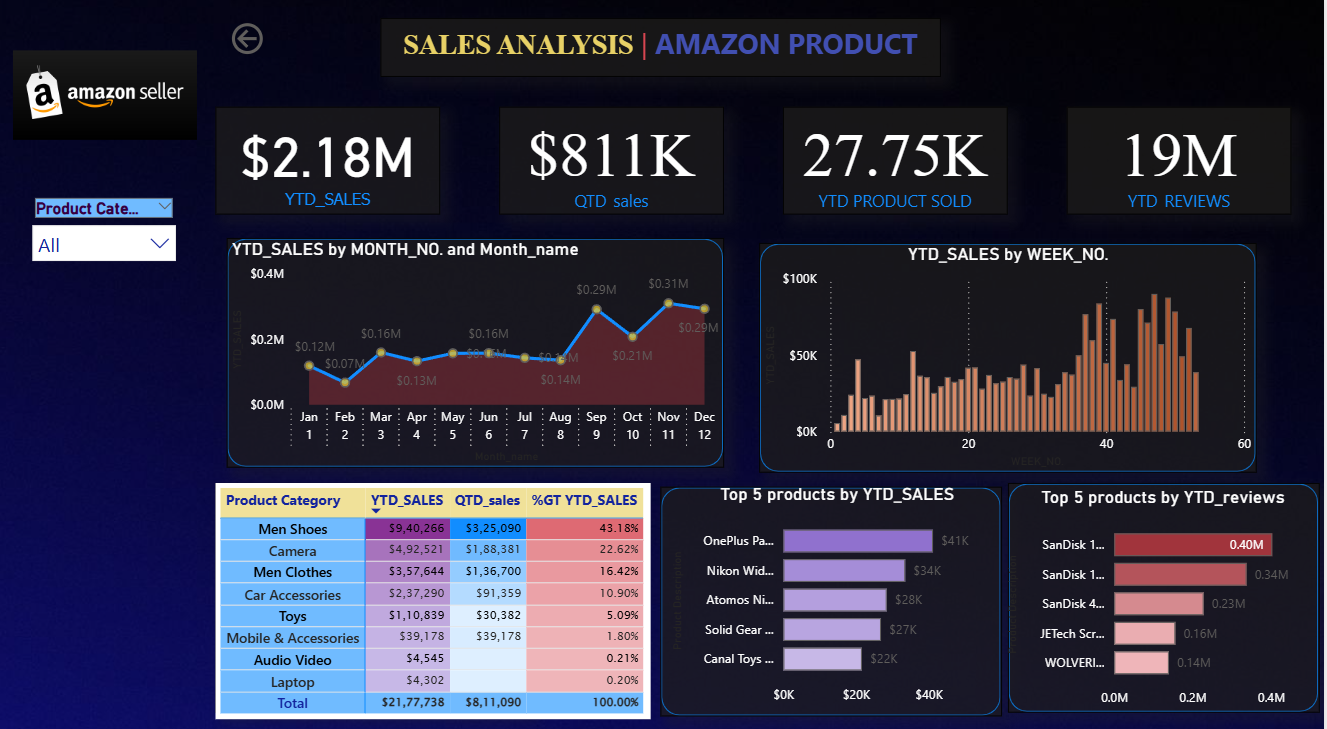

The page's visual inventory and layout, read from the dashboard file:
{"tool":"powerbi","page":{"name":"Page 1","canvas":[1280,720],"ordinal":0},"visuals":[{"type":"textbox","box":[369.8,24.1,540.5,56.7],"z":0},{"type":"card","fields":{"Values":["Amazon_Data (2).QTD_sales"]},"box":[483.8,109.8,217.2,103.8],"z":2000},{"type":"card","fields":{"Values":["Amazon_Data (2).YTD_SALES"]},"box":[209.9,109.8,217.2,103.8],"z":3000},{"type":"card","fields":{"Values":["Amazon_Data (2).YTD PRODUCT SOLD"]},"box":[757.6,109.8,217.2,103.8],"z":4000},{"type":"card","fields":{"Values":["Amazon_Data (2).YTD_REVIEWS"]},"box":[1031.5,109.8,217.2,103.8],"z":5000},{"type":"shape","box":[220.8,236.5,480.2,222],"z":6000},{"type":"areaChart","fields":{"Category":["Date_Table.MONTH_NO.","Date_Table.Month_name"],"Y":["Amazon_Data (2).YTD_SALES"]},"box":[220.8,236.5,480.2,222],"z":7000},{"type":"shape","box":[734.7,241.3,480.2,222],"z":7001},{"type":"lineStackedColumnComboChart","fields":{"Category":["Date_Table.WEEK_NO."],"Y":["Amazon_Data (2).YTD_SALES"]},"box":[734.7,241.3,480.2,222],"z":7002},{"type":"shape","box":[209.9,472.9,302.8,222],"z":7003},{"type":"shape","box":[639.4,476.5,329.4,222],"z":7004},{"type":"shape","box":[974.8,472.9,300.4,222],"z":7005},{"type":"pivotTable","fields":{"Rows":["Amazon_Data (2).Product Category"],"Values":["Amazon_Data (2).YTD_SALES1","Amazon_Data (2).QTD_sales","Amazon_Data (2).YTD_SALES"]},"box":[209.9,472.9,419.8,228],"z":7006},{"type":"actionButton","box":[220.9,24.7,100.2,39.8],"z":7007},{"type":"barChart","title":"Top 5 products by YTD_SALES","fields":{"Category":["Amazon_Data (2).Product Description"],"Y":["Amazon_Data (2).YTD_SALES"]},"box":[644.9,473.4,329.3,222.3],"z":7008},{"type":"barChart","title":"Top 5 products by YTD_reviews","fields":{"Category":["Amazon_Data (2).Product Description"],"Y":["Amazon_Data (2).YTD_REVIEWS"]},"box":[968.8,476.2,311.5,222.3],"z":7009},{"type":"slicer","fields":{"Values":["Amazon_Data (2).Product Category"]},"box":[22.9,192.9,158.6,88.6],"z":7010},{"type":"image","box":[9.1,24.5,187.3,149.1],"z":7011}]}

Visuals, with their boxes in screenshot pixels (x1, y1, x2, y2), scaled from the page's 1280x720 canvas onto the 1327x729 screenshot:
textbox: select_region(383, 24, 944, 82)
card - Amazon_Data (2).QTD_sales: select_region(502, 111, 727, 216)
card - Amazon_Data (2).YTD_SALES: select_region(218, 111, 443, 216)
card - Amazon_Data (2).YTD PRODUCT SOLD: select_region(785, 111, 1011, 216)
card - Amazon_Data (2).YTD_REVIEWS: select_region(1069, 111, 1295, 216)
shape: select_region(229, 239, 727, 464)
areaChart - Date_Table.MONTH_NO. x Date_Table.Month_name: select_region(229, 239, 727, 464)
shape: select_region(762, 244, 1260, 469)
lineStackedColumnComboChart - Date_Table.WEEK_NO. x Amazon_Data (2).YTD_SALES: select_region(762, 244, 1260, 469)
shape: select_region(218, 479, 532, 704)
shape: select_region(663, 482, 1004, 707)
shape: select_region(1011, 479, 1322, 704)
pivotTable - Amazon_Data (2).Product Category x Amazon_Data (2).YTD_SALES1: select_region(218, 479, 653, 710)
actionButton: select_region(229, 25, 333, 65)
"Top 5 products by YTD_SALES" barChart: select_region(669, 479, 1010, 704)
"Top 5 products by YTD_reviews" barChart: select_region(1004, 482, 1326, 707)
slicer - Amazon_Data (2).Product Category: select_region(24, 195, 188, 285)
image: select_region(9, 25, 204, 176)
